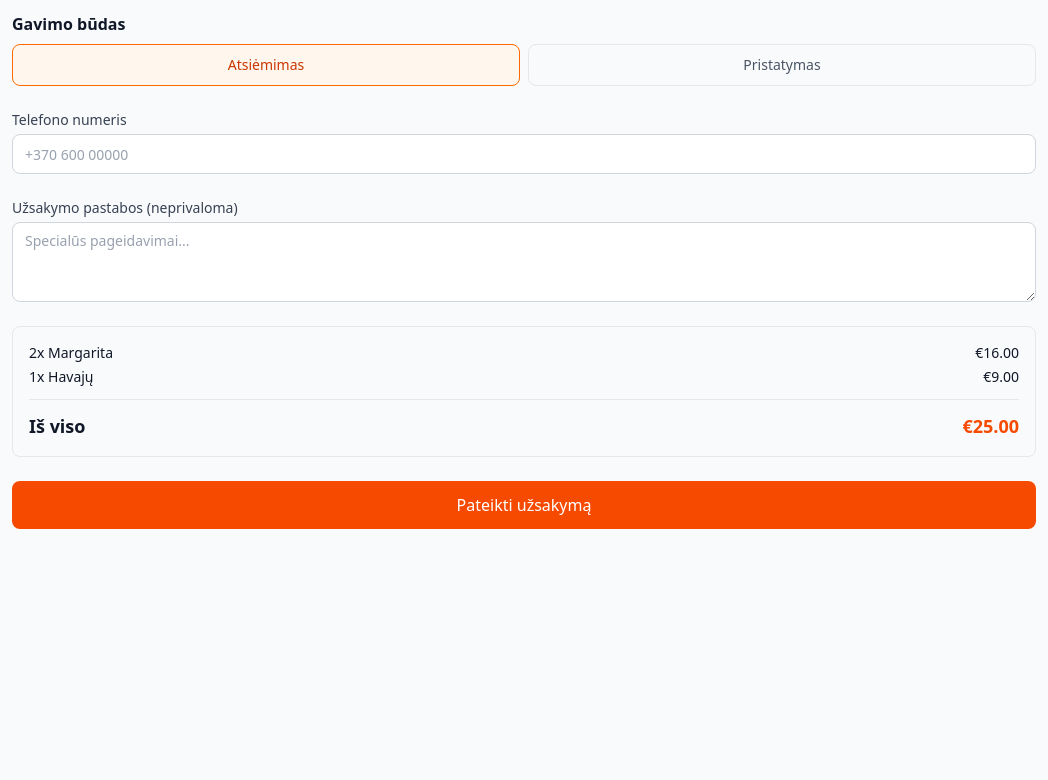
Test: CheckoutForm › switching to delivery shows address fields
This screenshot has width=1048, height=780.
Click the button "Pristatymas": x=782, y=65 [528, 44, 1036, 86]
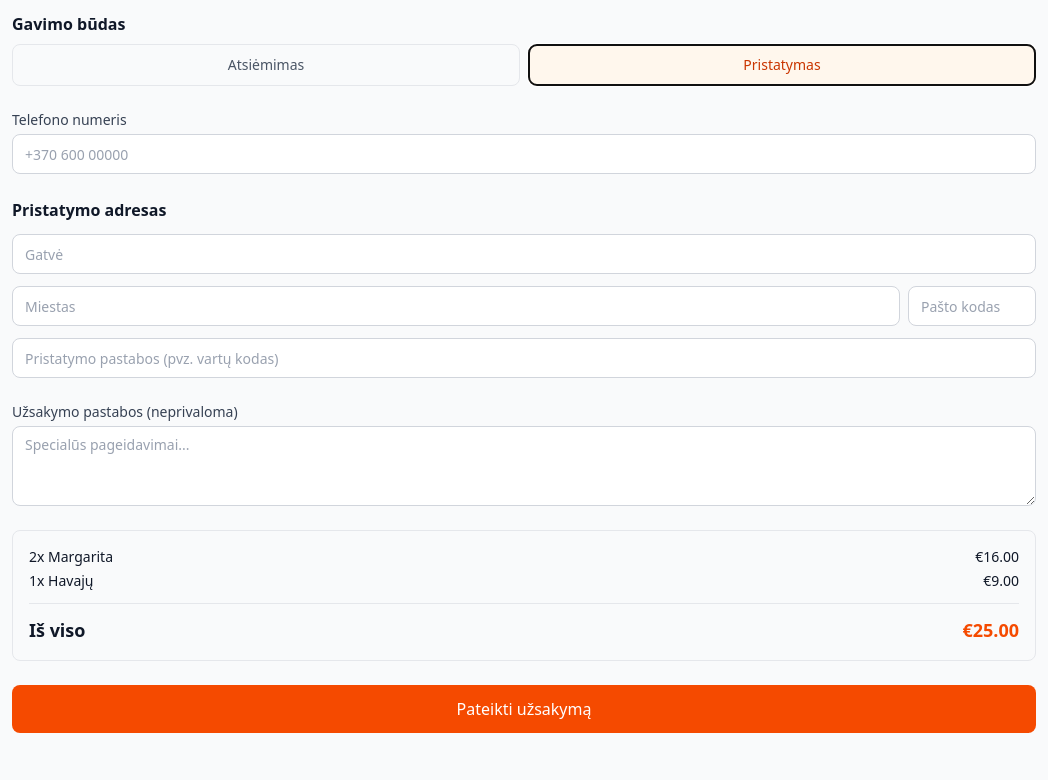
Now the field with placeholder "Gatvė" is shown, box [12, 234, 1036, 274]
Now the field with placeholder "Miestas" is shown, box [12, 286, 900, 326]
Now the field with placeholder "Pašto kodas" is shown, box [908, 286, 1036, 326]
